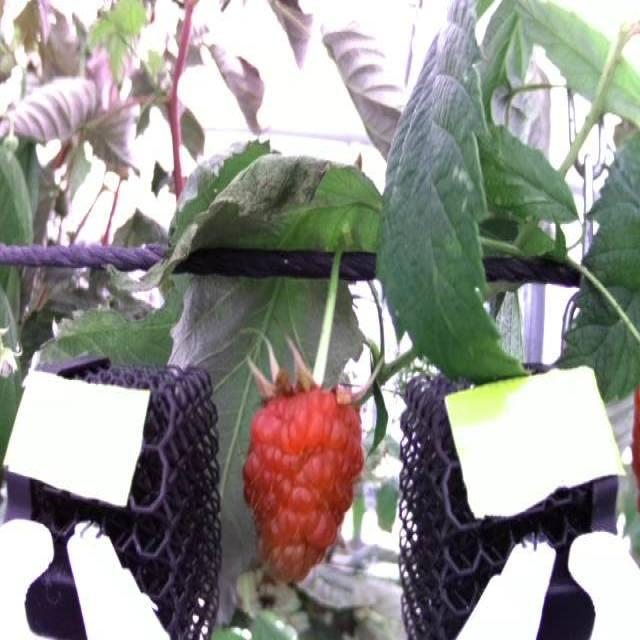Riped berries: (244, 354, 374, 582)
